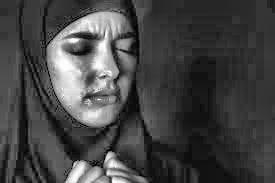sad: (46, 14, 140, 142)
